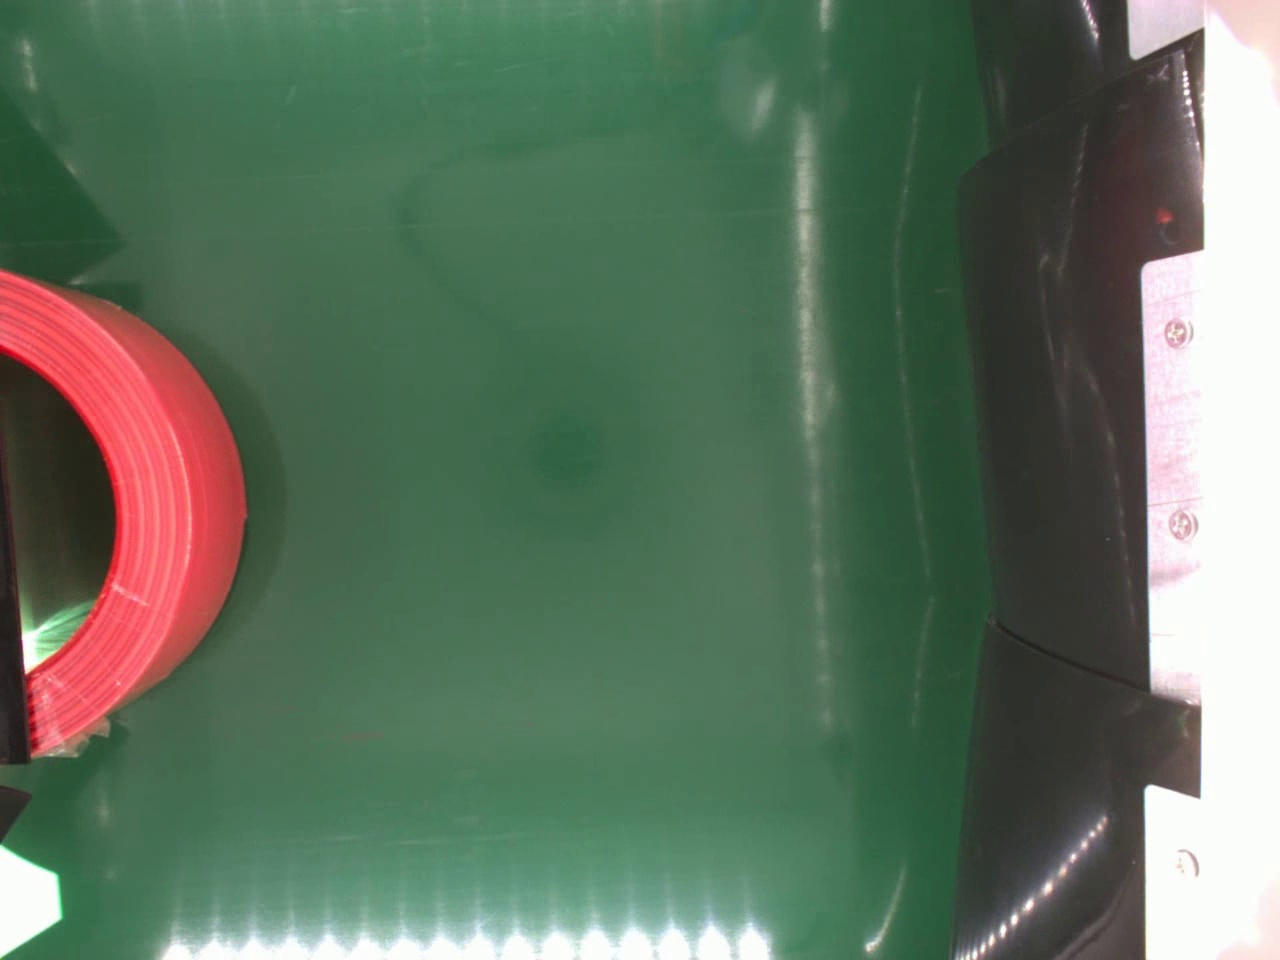red: (0, 268, 248, 759)
